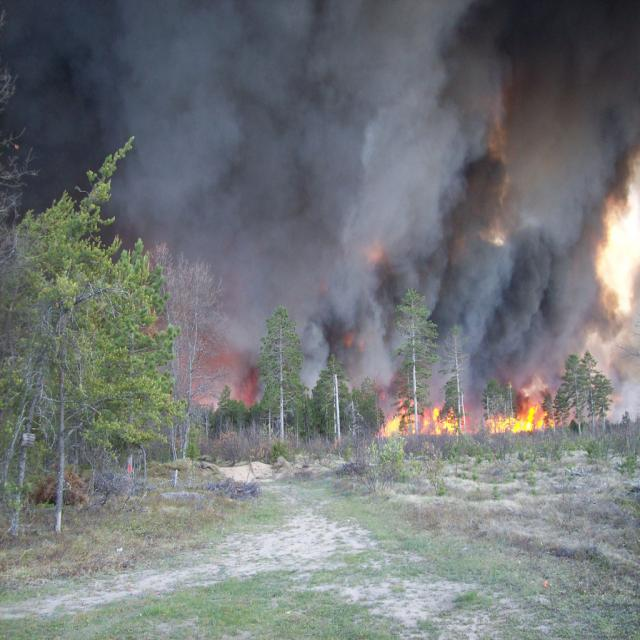smoke: (140, 11, 582, 253)
